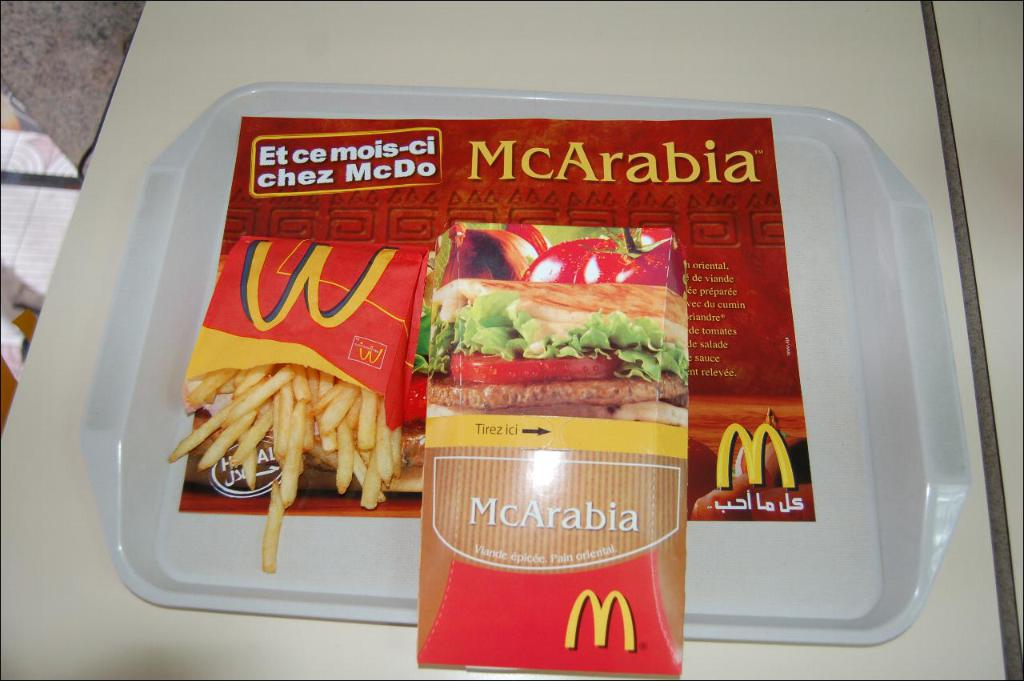French fries: (184, 366, 378, 530)
